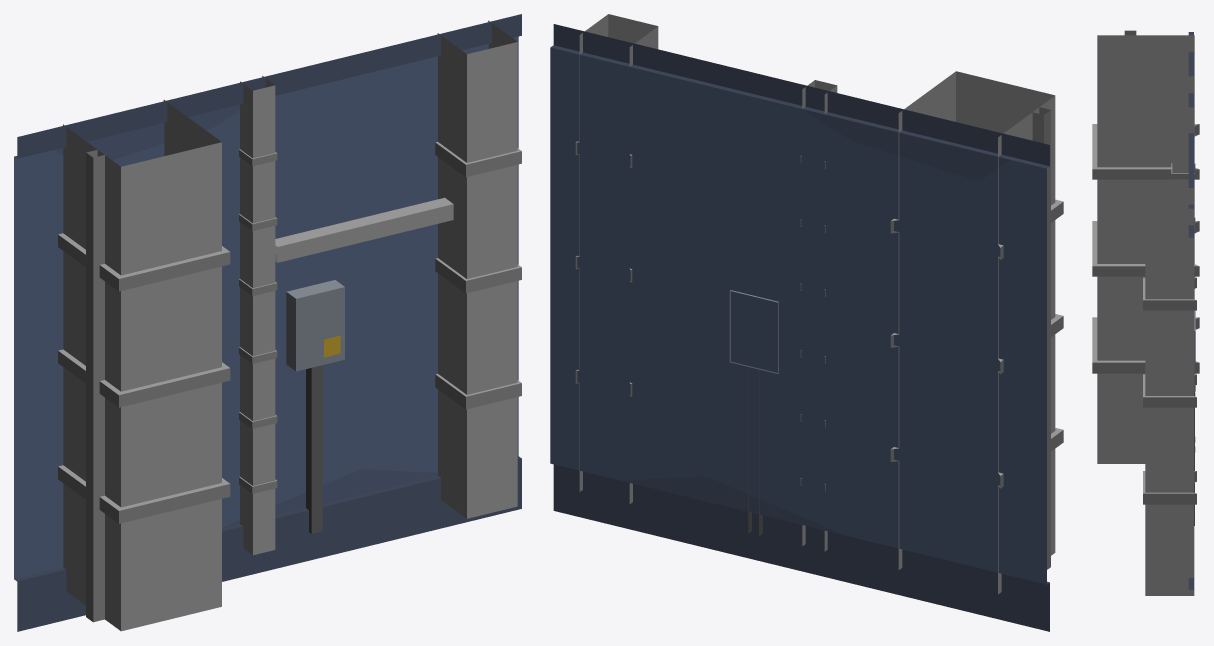
File: AI_Env_Wall_Blue_Pipes.fbx
The picture shows the model from 3 angles, left to right: view 1: azimuth 30°, elevation 25°; view 2: azimuth 150°, elevation 25°; view 3: azimuth 270°, elevation 25°; orthographic projection. The views are drawn at different scales.
Parts seen in each view (by area): view 1: AI_Env_Wall_Blue_Pipes; view 2: AI_Env_Wall_Blue_Pipes; view 3: AI_Env_Wall_Blue_Pipes.
Boxes of the visible parts, box(x1,y1,x2,y2) form: AI_Env_Wall_Blue_Pipes: box(14, 14, 521, 631); AI_Env_Wall_Blue_Pipes: box(550, 14, 1063, 631); AI_Env_Wall_Blue_Pipes: box(1092, 30, 1199, 595).
Bounding box in the file's own units: 5 × 4.69 × 1.1.
